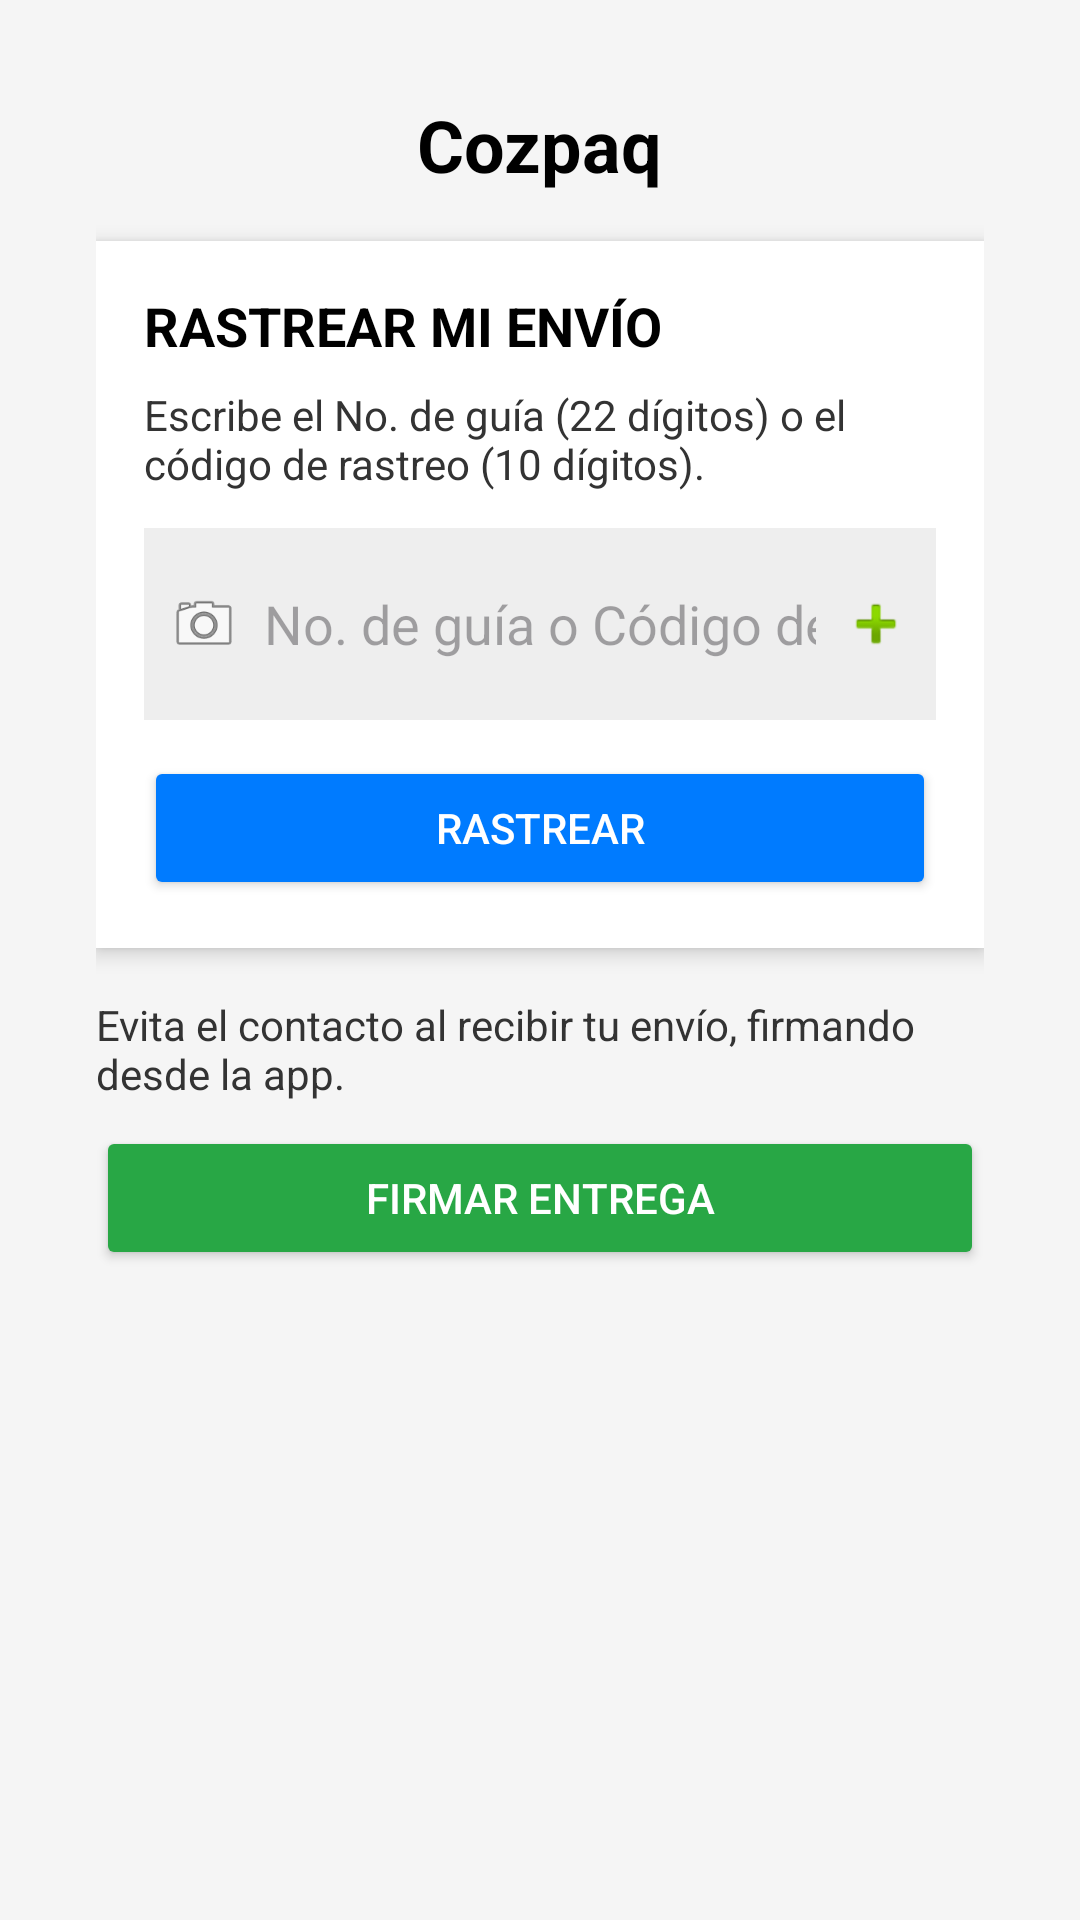

Named icons in this screenshot (1080 × 1920) and their bounding boxes, [x1, y1, x2, y2]:
Agregar otro código: [855, 604, 897, 644]
Escanear código: [176, 600, 232, 645]
